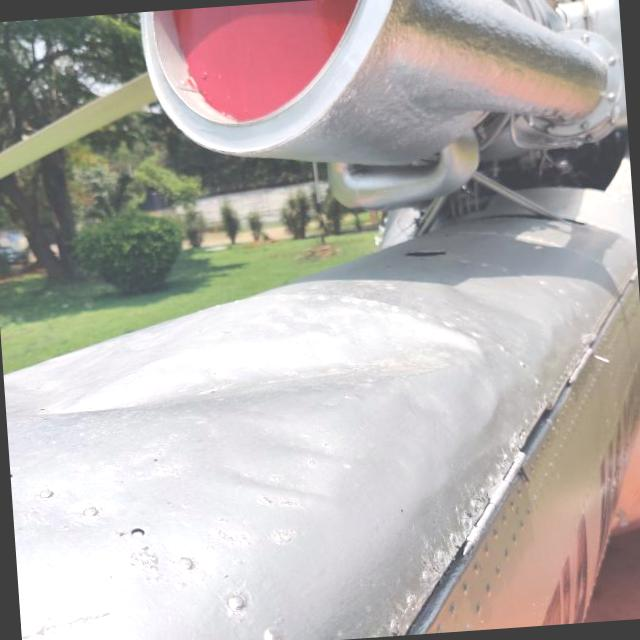dent: (13, 269, 506, 442), (204, 400, 372, 530)
